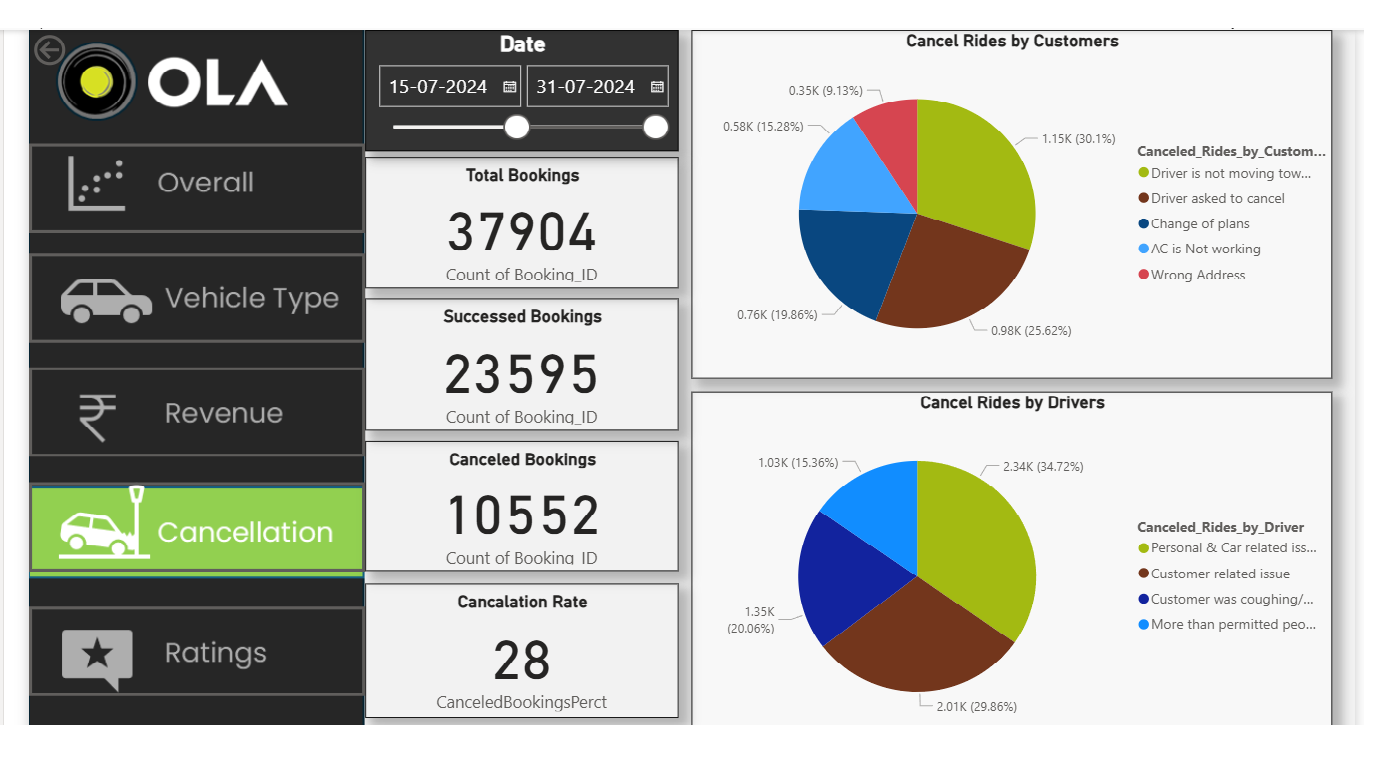

Layout of this report page (visuals, bound fields, positions):
{"tool":"powerbi","page":{"name":"Cancalation","canvas":[1280,720],"ordinal":3},"visuals":[{"type":"actionButton","box":[0,223.2,324.5,89.3],"z":0},{"type":"actionButton","box":[0,336.6,324.5,89.3],"z":1000},{"type":"actionButton","box":[0,451.2,324.5,89.3],"z":2000},{"type":"actionButton","box":[0,575.5,324.5,89.3],"z":3000},{"type":"actionButton","box":[0,113.4,324.5,89.3],"z":4000},{"type":"pieChart","title":"Cancel Rides by Customers","fields":{"Category":["July.Canceled_Rides_by_Customer"],"Y":["CountNonNull(July.Canceled_Rides_by_Customer)"]},"box":[639.5,0,618.5,348.1],"z":5000},{"type":"pieChart","title":"Cancel Rides by Drivers","fields":{"Category":["July.Canceled_Rides_by_Driver"],"Y":["CountNonNull(July.Canceled_Rides_by_Driver)"]},"box":[639.5,360.5,618.5,350.6],"z":6000},{"type":"slicer","title":"Date","fields":{"Values":["July.Date"]},"box":[324.7,0,302.5,121],"z":7000},{"type":"card","title":"Total Bookings","fields":{"Values":["CountNonNull(July.Booking_ID)"]},"box":[324.7,127.2,302.5,130.9],"z":8000},{"type":"card","title":"Successed Bookings","fields":{"Values":["CountNonNull(July.Booking_ID)"]},"box":[324.7,267.9,302.5,132.1],"z":9000},{"type":"card","title":"Canceled Bookings","fields":{"Values":["CountNonNull(July.Booking_ID)"]},"box":[324.7,409.9,302.5,129.6],"z":10000},{"type":"card","title":"Cancalation Rate","fields":{"Values":["July.CanceledBookingsPerct"]},"box":[324.7,553.1,302.5,133.3],"z":11000},{"type":"actionButton","box":[0,0,100,40],"z":11001}]}

Visuals, with their boxes on the page's 1280x720 design canvas (x1, y1, x2, y2). These are canvas units, not pixel positions in the 1375x762 screenshot, which may show the page scaled, cropped or inside an application window:
actionButton: pyautogui.locateOnScreen(0, 223, 324, 312)
actionButton: pyautogui.locateOnScreen(0, 337, 324, 426)
actionButton: pyautogui.locateOnScreen(0, 451, 324, 540)
actionButton: pyautogui.locateOnScreen(0, 576, 324, 665)
actionButton: pyautogui.locateOnScreen(0, 113, 324, 203)
"Cancel Rides by Customers" pieChart: pyautogui.locateOnScreen(640, 0, 1258, 348)
"Cancel Rides by Drivers" pieChart: pyautogui.locateOnScreen(640, 360, 1258, 711)
"Date" slicer: pyautogui.locateOnScreen(325, 0, 627, 121)
"Total Bookings" card: pyautogui.locateOnScreen(325, 127, 627, 258)
"Successed Bookings" card: pyautogui.locateOnScreen(325, 268, 627, 400)
"Canceled Bookings" card: pyautogui.locateOnScreen(325, 410, 627, 540)
"Cancalation Rate" card: pyautogui.locateOnScreen(325, 553, 627, 686)
actionButton: pyautogui.locateOnScreen(0, 0, 100, 40)
